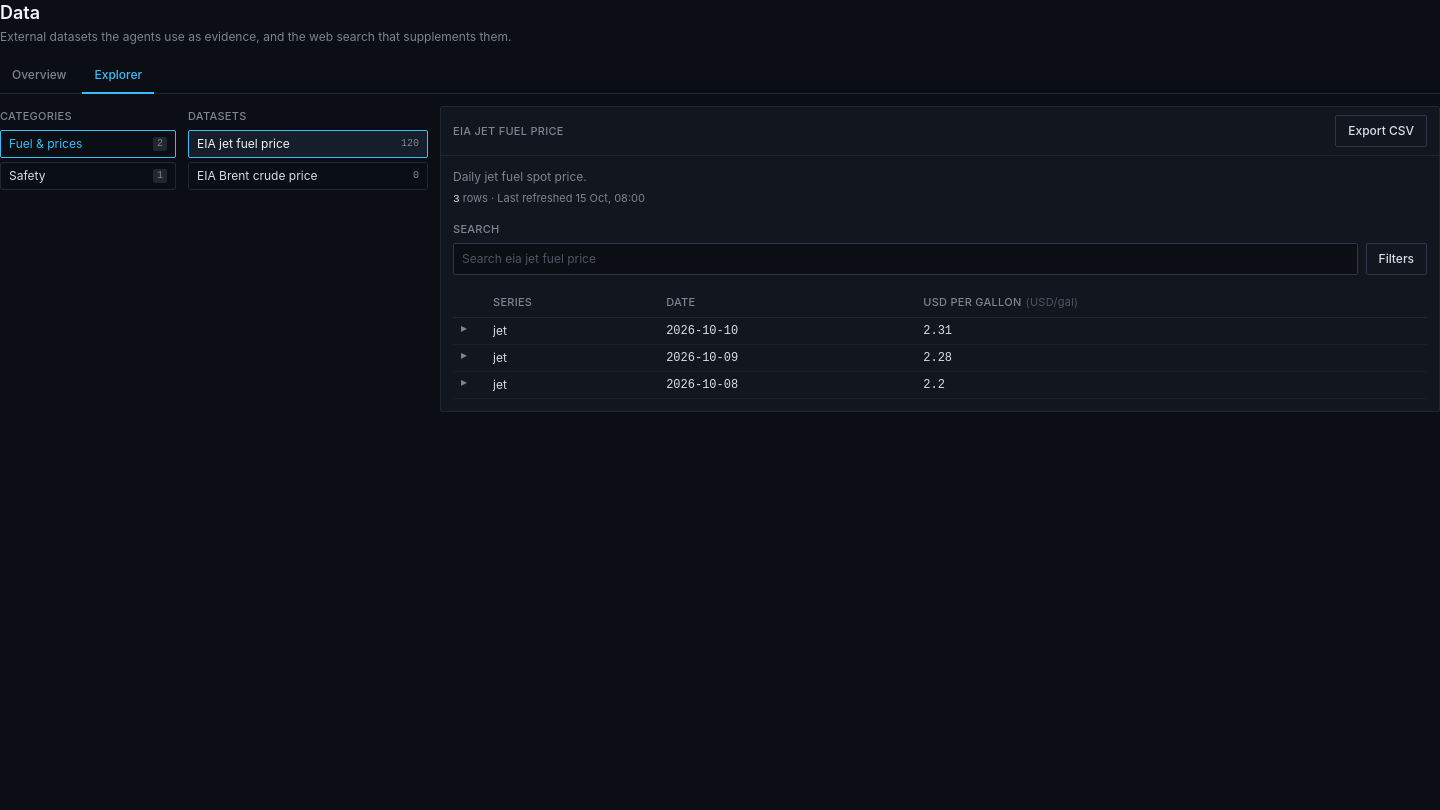
Test case: DataPage tabs › opens the Explorer from the URL and switches back
Expected: the text "2.31" is shown, [915, 318, 1427, 344]
Click the tab "Overview": [39, 76] box [0, 58, 78, 94]
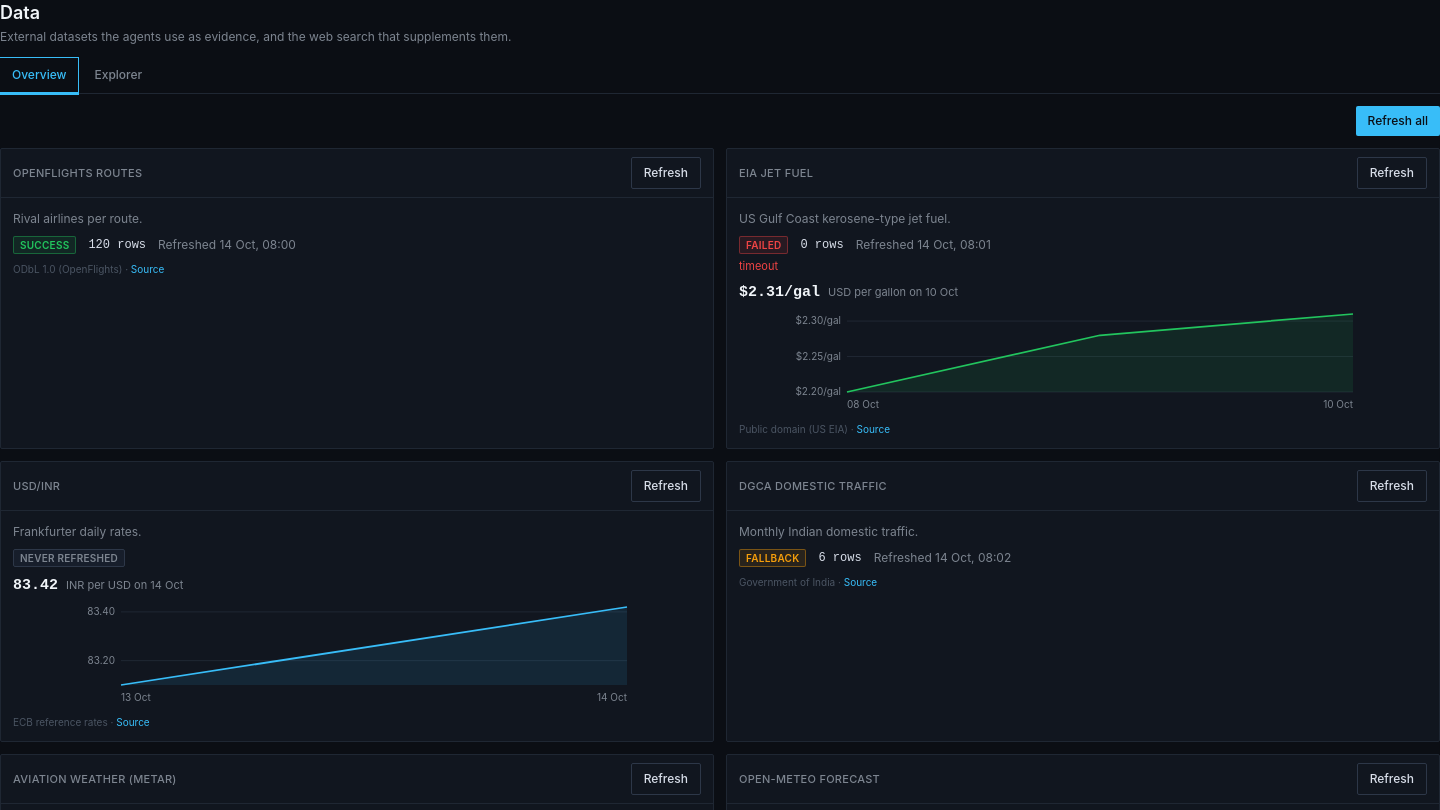
Expected: the element with test id "dataset-openflights" is shown, [0, 148, 714, 449]
Expected: the element with test id "data-explorer" is gone
Click the tab "Explorer": [118, 76] box [82, 58, 154, 94]
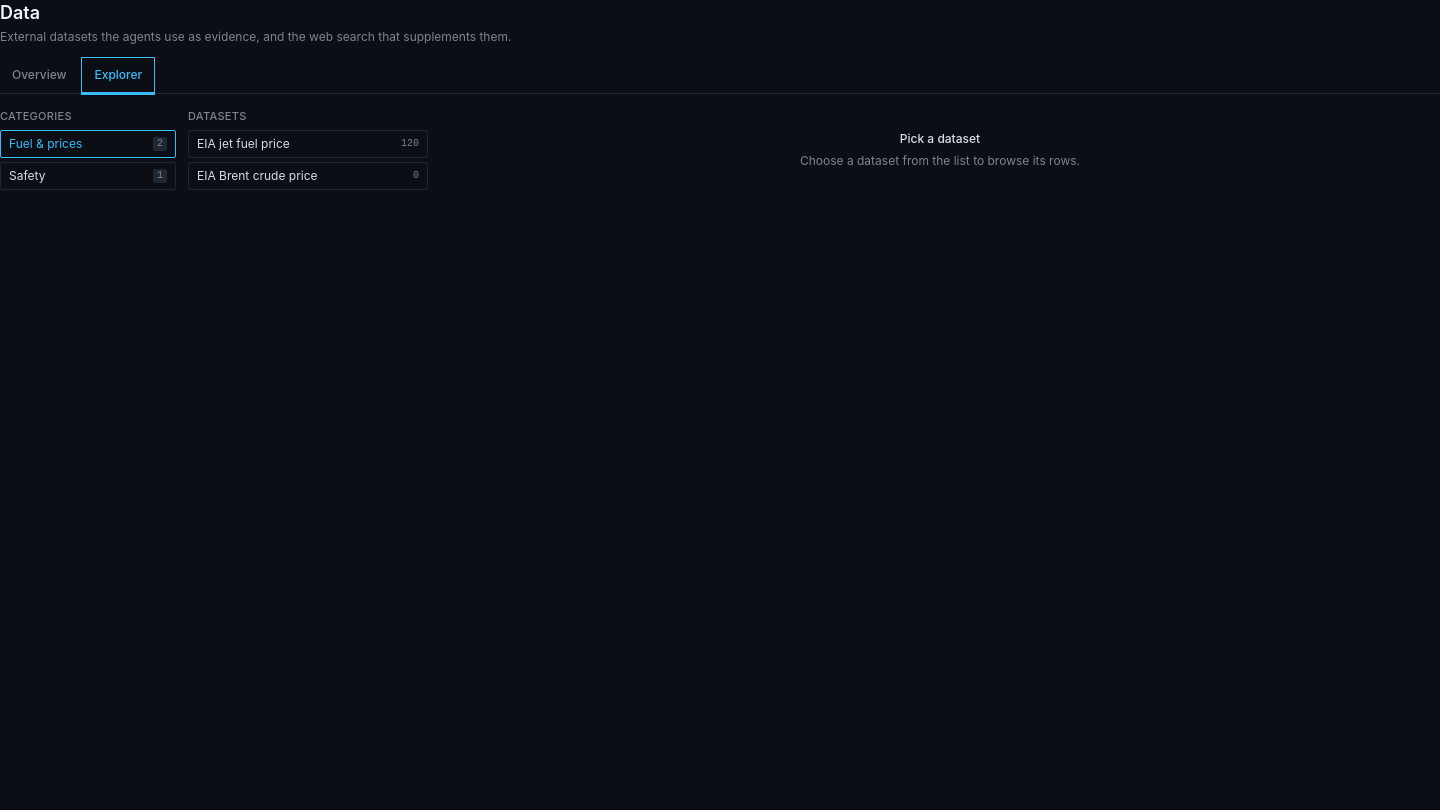
Expected: the element with test id "data-explorer" is shown, [0, 109, 1080, 190]
Expected: the text "Pick a dataset" is shown, [900, 130, 980, 148]
